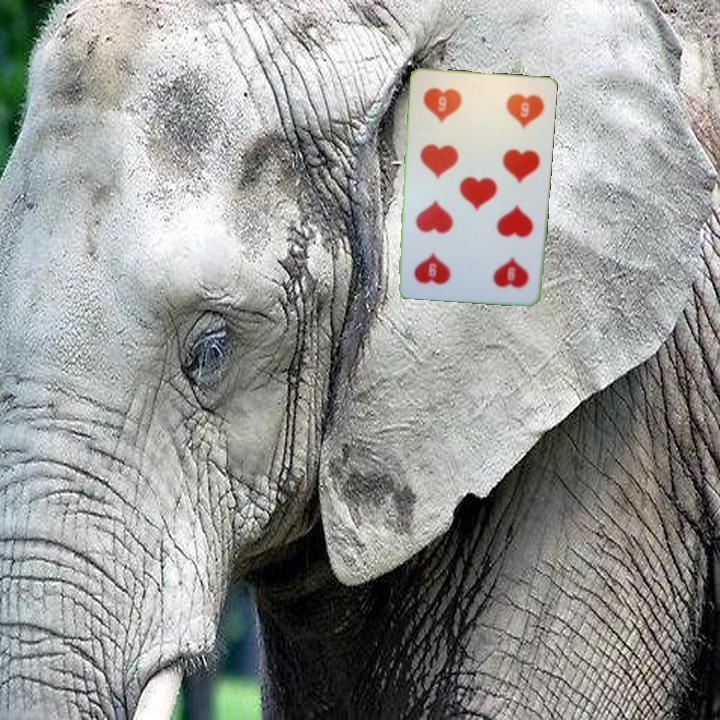h_9.png: (415, 77, 486, 140), (466, 235, 536, 297)
